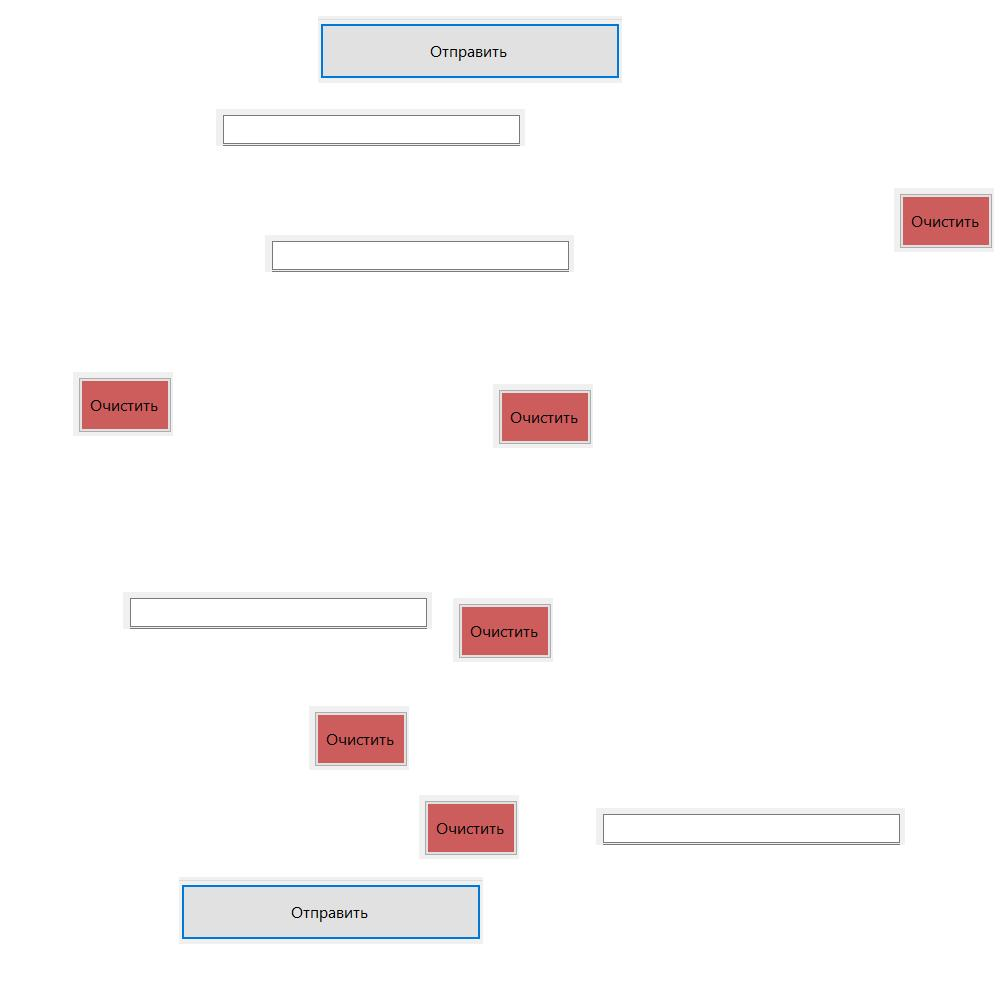Button: (179, 877, 483, 944), (318, 16, 622, 83), (419, 795, 519, 859), (493, 384, 593, 448), (894, 188, 994, 252), (73, 372, 173, 436), (453, 598, 553, 662), (309, 706, 409, 770)
EditText-: (596, 808, 905, 845), (265, 235, 574, 272), (123, 592, 432, 629), (216, 109, 525, 146)
